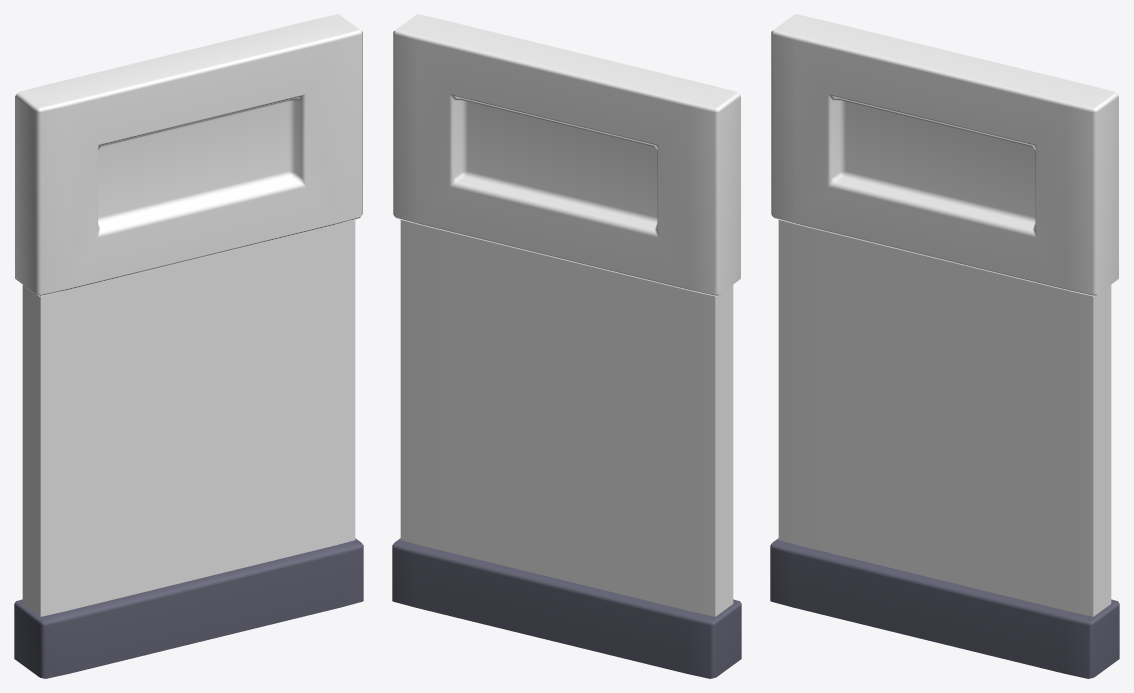
File: mod_sc_tdm_roma_wall_002.fbx
The picture shows the model from 3 angles, left to right: view 1: azimuth 30°, elevation 25°; view 2: azimuth 150°, elevation 25°; view 3: azimuth 330°, elevation 25°; orthographic projection.
Parts seen in each view (by area): view 1: mod_sc_roma_001_ar09_wall_019; view 2: mod_sc_roma_001_ar09_wall_019; view 3: mod_sc_roma_001_ar09_wall_019.
Part boxes in pixels (<box>): mod_sc_roma_001_ar09_wall_019: <box>14,14,363,678</box>; mod_sc_roma_001_ar09_wall_019: <box>392,14,741,678</box>; mod_sc_roma_001_ar09_wall_019: <box>770,14,1119,678</box>.
Size of what is drawn, in the model's own units: 362 by 600 by 61.99.
1 material, 1 textured.
